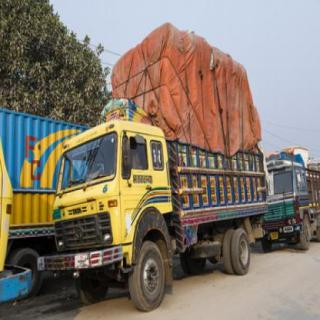Normal_vehicle: (45, 94, 274, 308)
